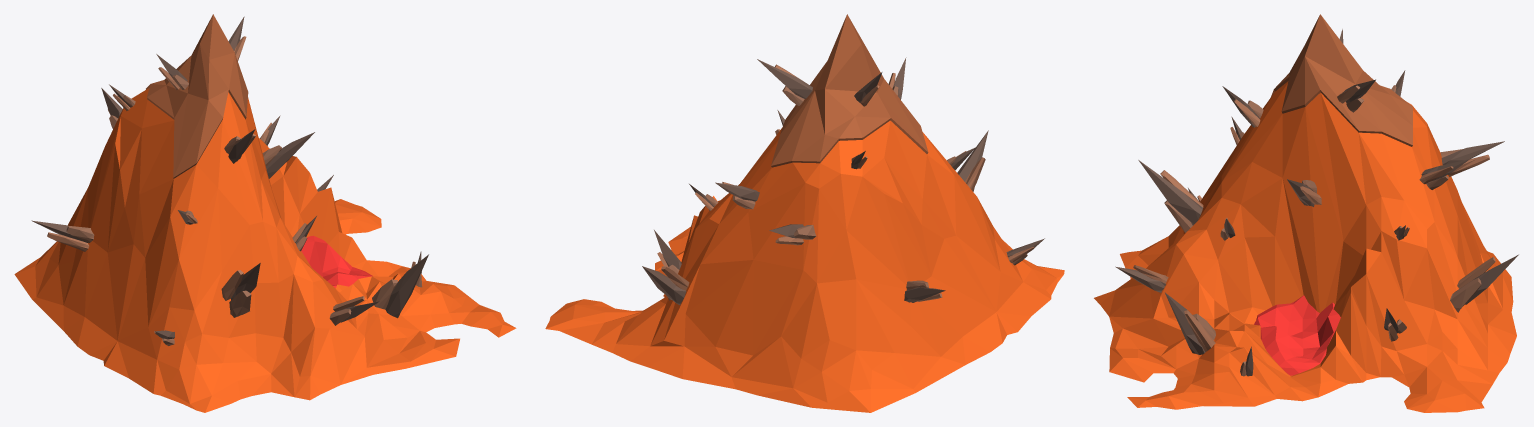
File: RAS_Mountain01.fbx
3 renders of one model, left to right at view 1: azimuth 30°, elevation 25°; view 2: azimuth 150°, elevation 25°; view 3: azimuth 270°, elevation 25°, orthographic. The views are drawn at different scales.
Visible parts, largest first — view 1: RAS_Mountain01; view 2: RAS_Mountain01; view 3: RAS_Mountain01.
Part boxes in pixels (x1,y1,x2,y2): RAS_Mountain01: [14, 14, 516, 412]; RAS_Mountain01: [545, 14, 1064, 412]; RAS_Mountain01: [1094, 14, 1518, 412].
Size of the model in its own units: 610 by 481 by 634.
Materials: 1 (1 with a texture image).
